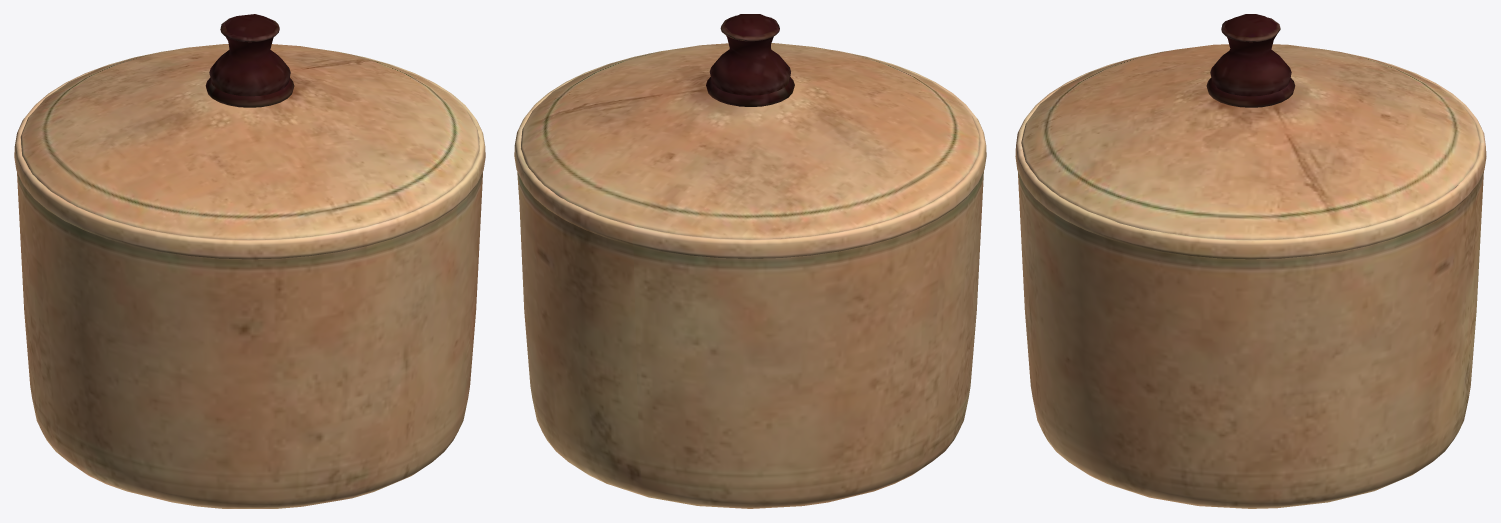
Rendered from brasspot.glb.
3 renders of one model, left to right at view 1: azimuth 30°, elevation 25°; view 2: azimuth 150°, elevation 25°; view 3: azimuth 270°, elevation 25°, orthographic.
Visible parts, largest first — view 1: brass_pot_01; view 2: brass_pot_01; view 3: brass_pot_01.
Part boxes in pixels (bbox=[...]): brass_pot_01: bbox=[14, 14, 485, 508]; brass_pot_01: bbox=[514, 14, 986, 508]; brass_pot_01: bbox=[1015, 14, 1486, 508].
Size of the model in its own units: 0.3019 by 0.2909 by 0.3017.
1 material, 1 textured.
